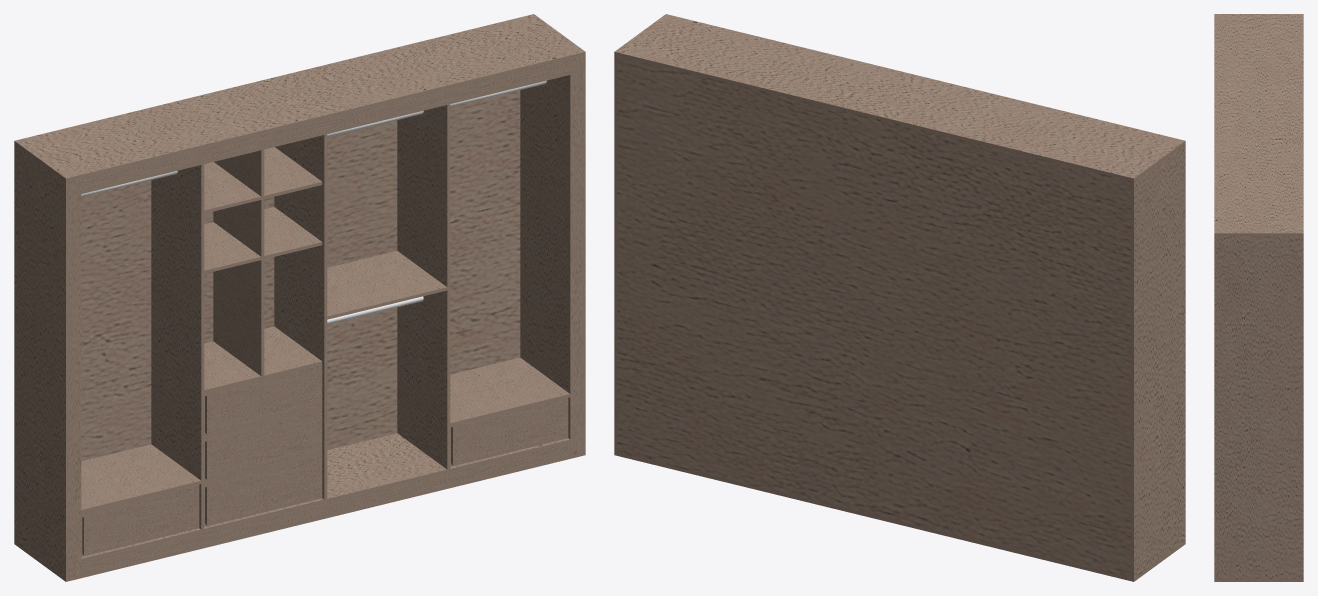
The model's file is wardrobe_model.glb.
3 renders of one model, left to right at view 1: azimuth 30°, elevation 25°; view 2: azimuth 150°, elevation 25°; view 3: azimuth 270°, elevation 25°, orthographic. The views are drawn at different scales.
Visible parts, largest first — view 1: Cube.004; view 2: Cube.004; view 3: Cube.004.
Boxes of the visible parts, x1,y1,x2,y2 form: Cube.004: (14, 14, 585, 581); Cube.004: (614, 14, 1185, 581); Cube.004: (1214, 14, 1303, 581).
Size of the model in its own units: 3.37 by 2.5 by 0.58.
2 materials, 1 textured.
